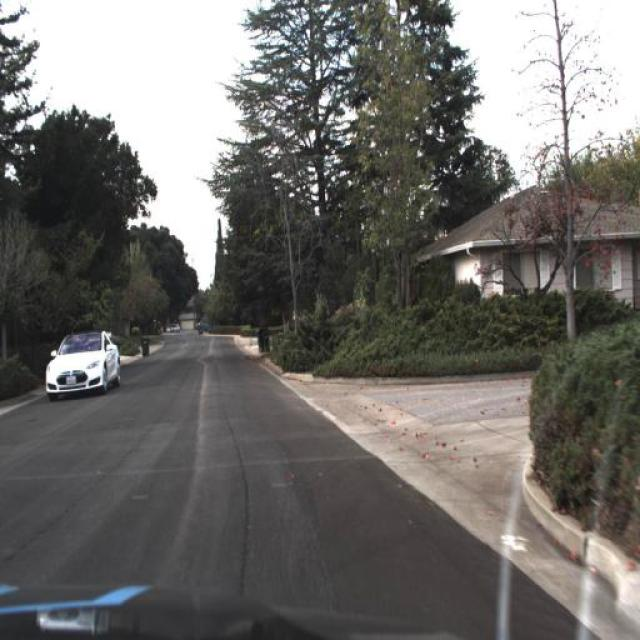car: (44, 323, 120, 397)
